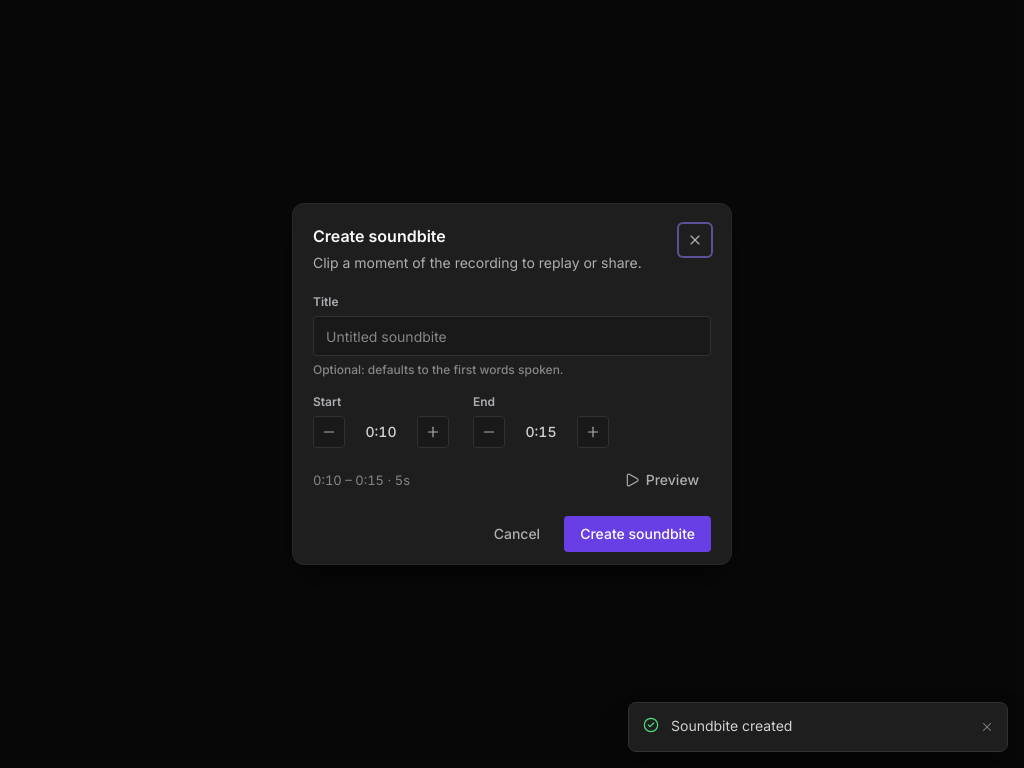
Test: CreateSoundbiteModal › keeps the modal open with the server's reason when it refuses
Click the button "Create soundbite": x=638, y=534 [564,516,711,552]
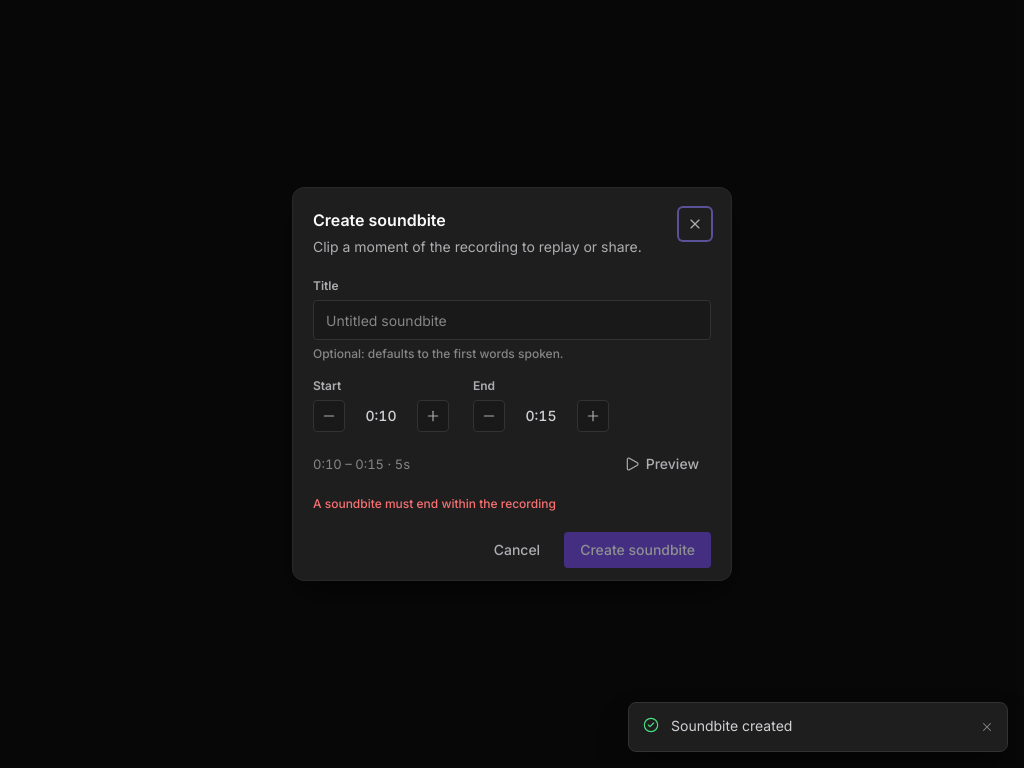
Now the message "A soundbite must end within the recording" is shown, box [313,496,556,511]
